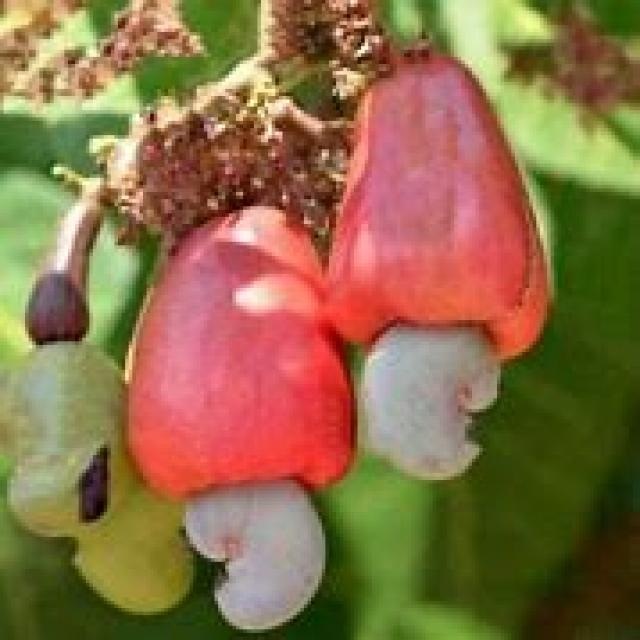Cashew: (184, 459, 343, 635), (368, 317, 496, 480)
